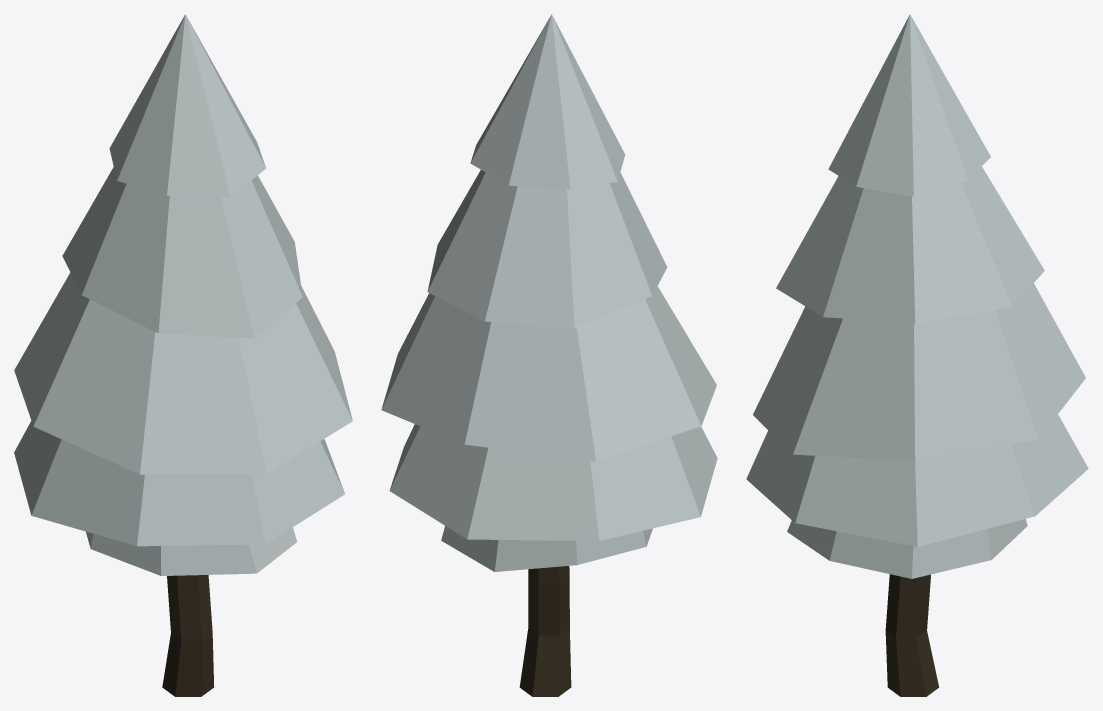
Rendered from Snow_Tree_model_1.fbx.
The picture shows the model from 3 angles, left to right: view 1: azimuth 30°, elevation 25°; view 2: azimuth 150°, elevation 25°; view 3: azimuth 270°, elevation 25°; orthographic projection.
Parts seen in each view (by area): view 1: Snow Pine(Snow); view 2: Snow Pine(Snow); view 3: Snow Pine(Snow).
Boxes of the visible parts, x1=… form: Snow Pine(Snow): x1=14, y1=14, x2=352, y2=696; Snow Pine(Snow): x1=381, y1=14, x2=717, y2=696; Snow Pine(Snow): x1=746, y1=14, x2=1088, y2=696.
Size of the model in its own units: 51.5 by 110 by 50.64.
